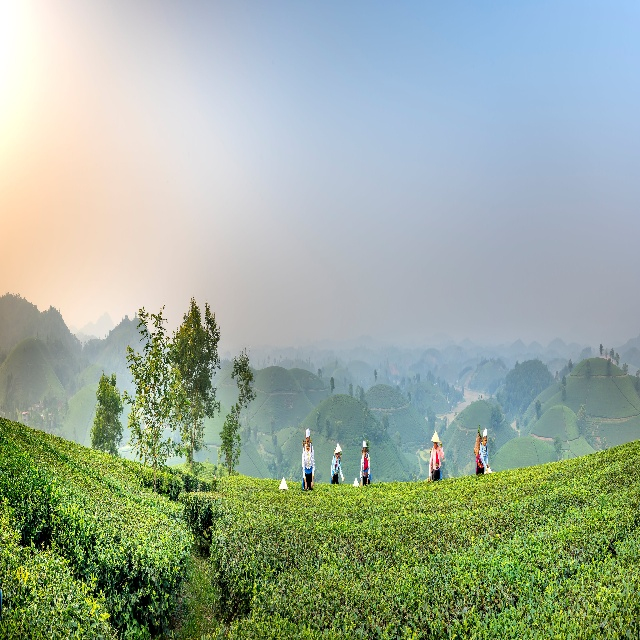Sin_guantes: (310, 481, 314, 490)
